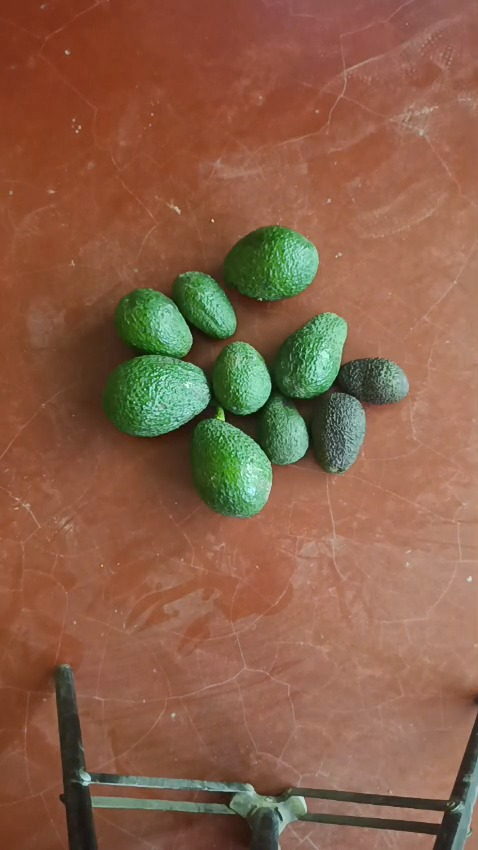Primera: (102, 355, 212, 437), (190, 409, 272, 516)
Segunda: (223, 225, 319, 302), (272, 313, 349, 400)
Tercera: (113, 287, 194, 358), (309, 391, 366, 473), (211, 341, 273, 416), (171, 271, 237, 341), (256, 391, 307, 465), (337, 357, 409, 405)
